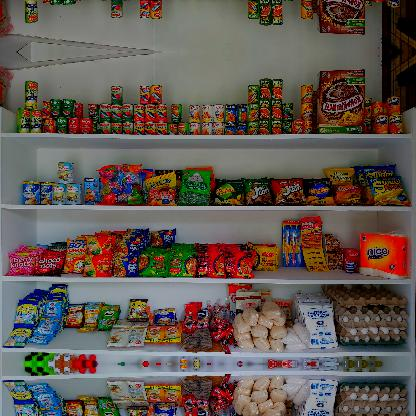Koko-Krunch: (316, 68, 364, 134), (316, 0, 364, 36)
